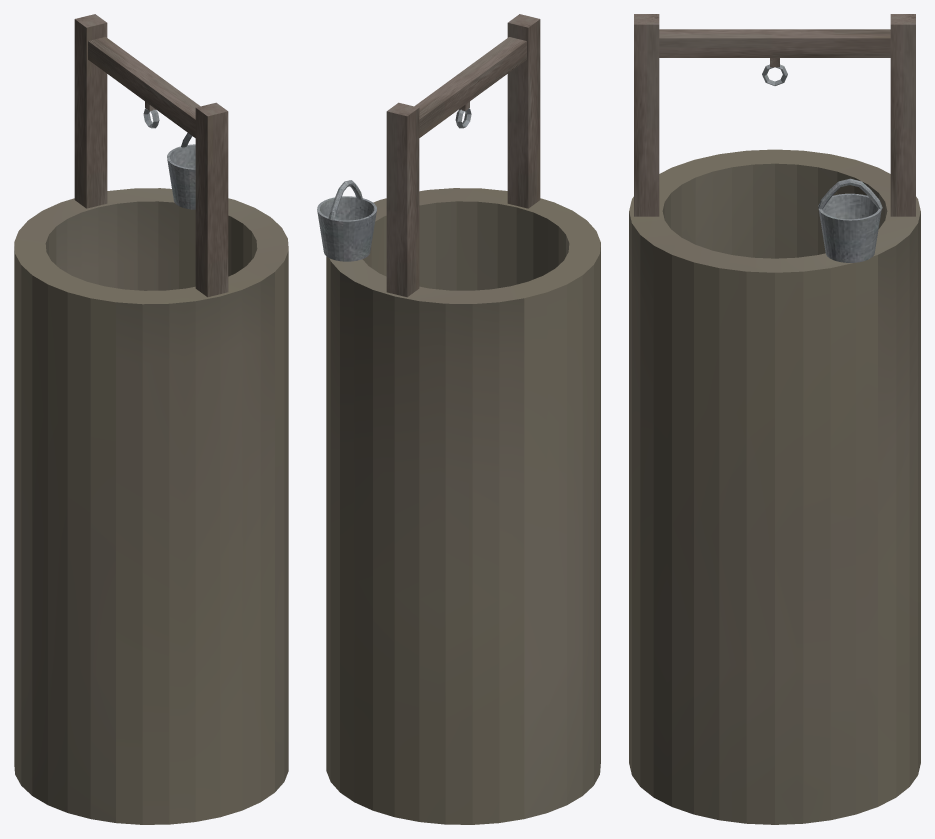
File: Well.fbx
3 views of the same model, side by side, from view 1: azimuth 30°, elevation 25°; view 2: azimuth 150°, elevation 25°; view 3: azimuth 270°, elevation 25° (orthographic). The views are drawn at different scales.
Parts seen in each view (by area): view 1: Cylinder, Cube, Cube.001, Cube.002, Cylinder.001; view 2: Cylinder, Cube.001, Cube, Cube.002, Cylinder.001; view 3: Cylinder, Cube.002, Cube, Cube.001, Cylinder.001, Torus.001.
Boxes of the visible parts, x1=… form: Cylinder: x1=14, y1=188, x2=288, y2=824; Cube: x1=195, y1=102, x2=228, y2=297; Cube.001: x1=74, y1=14, x2=107, y2=208; Cube.002: x1=88, y1=37, x2=200, y2=137; Cylinder.001: x1=167, y1=144, x2=195, y2=209; Cylinder: x1=326, y1=188, x2=600, y2=824; Cube.001: x1=386, y1=102, x2=419, y2=297; Cube: x1=507, y1=14, x2=540, y2=208; Cube.002: x1=414, y1=37, x2=526, y2=137; Cylinder.001: x1=317, y1=196, x2=376, y2=261; Cylinder: x1=629, y1=149, x2=920, y2=824; Cube.002: x1=659, y1=29, x2=890, y2=57; Cube: x1=634, y1=14, x2=659, y2=216; Cube.001: x1=890, y1=14, x2=915, y2=216; Cylinder.001: x1=818, y1=193, x2=881, y2=262; Torus.001: x1=818, y1=178, x2=882, y2=209.
Size of the model in its own units: 525 by 1478 by 525.
Materials: 3 (3 with a texture image).
